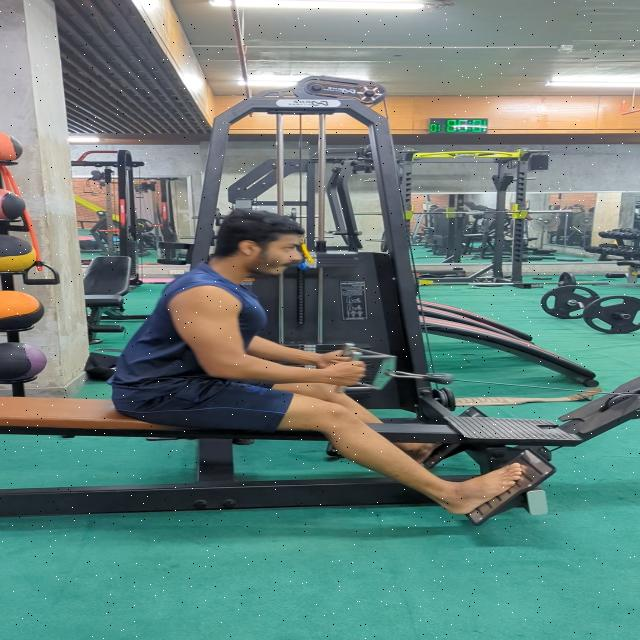Normal_RowingMachineExercise: (110, 207, 524, 517)
